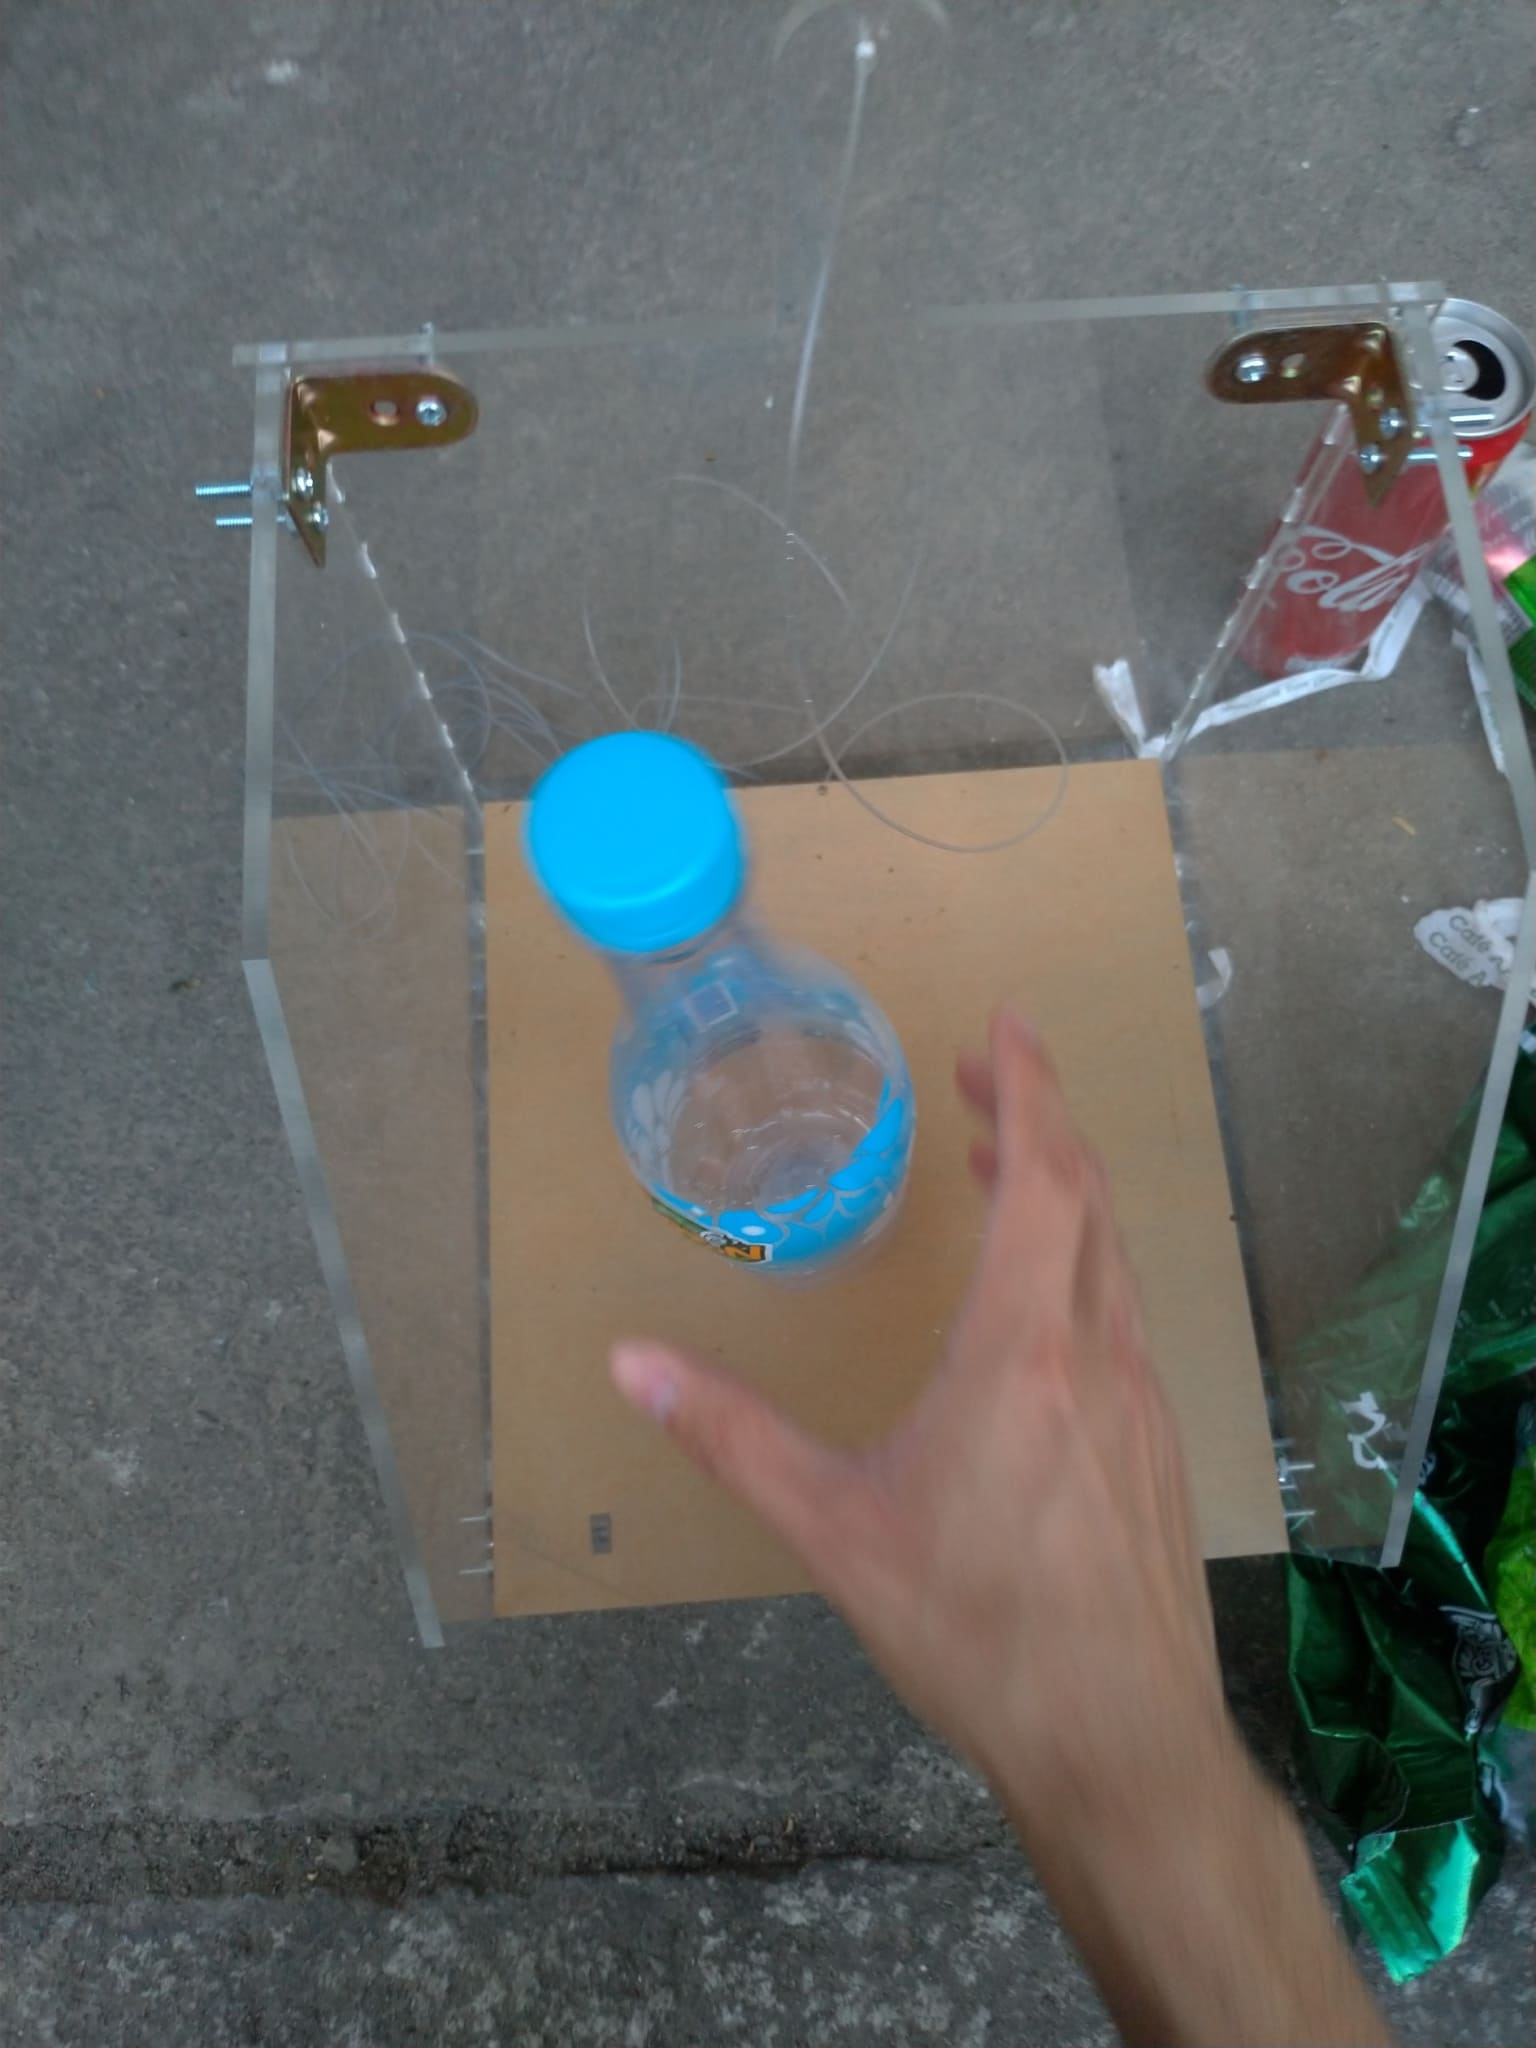AlCan: (1247, 298, 1534, 668)
Others: (1279, 905, 1533, 1988), (1094, 577, 1463, 735)
PlasticBottle: (520, 714, 910, 1271)
